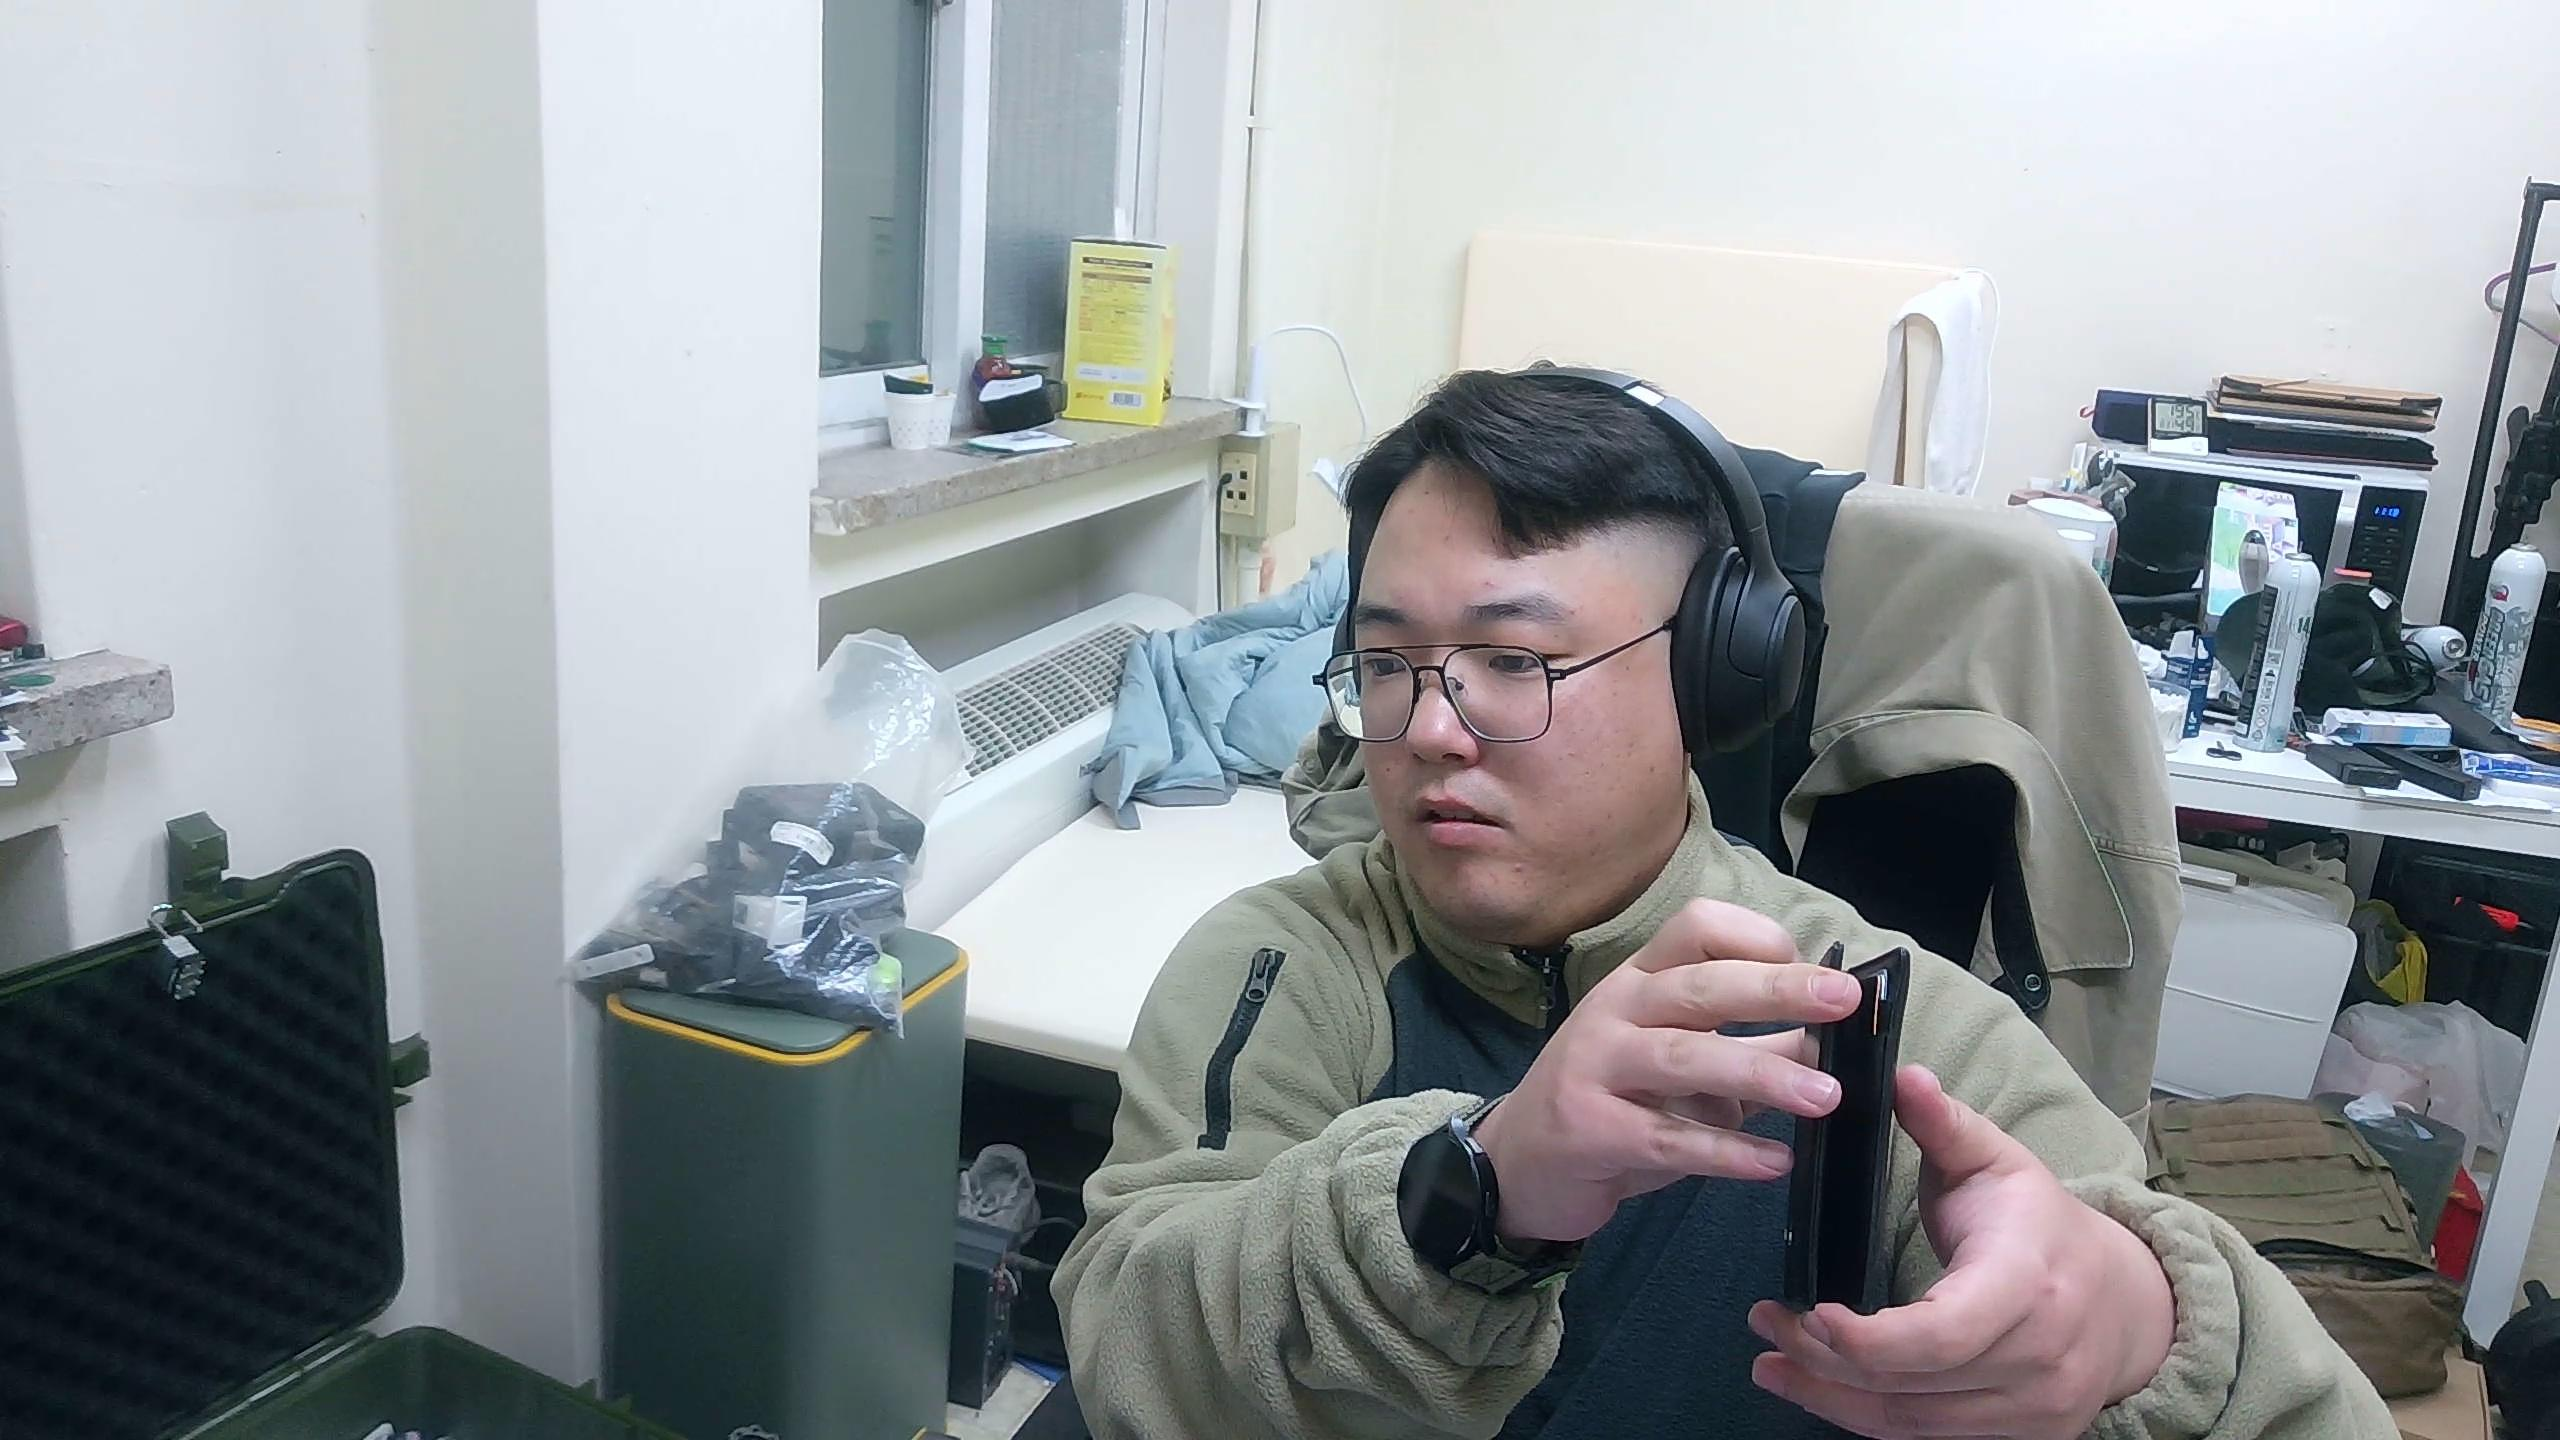earphone: (1781, 941, 1913, 1319)
